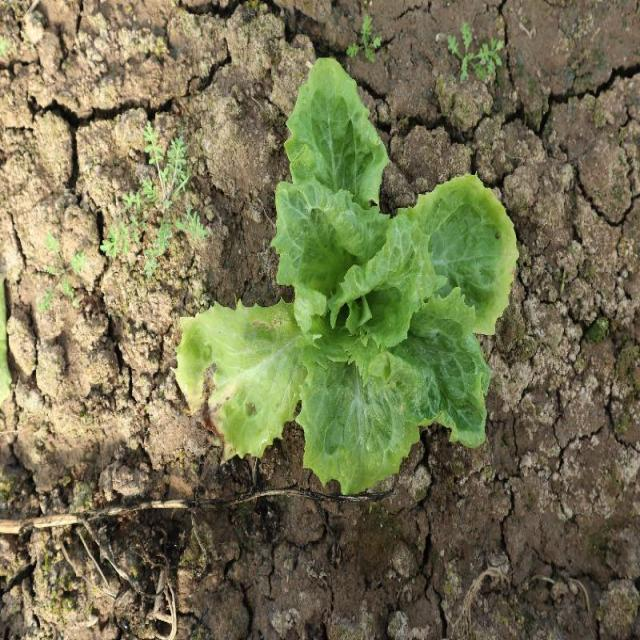crop: (272, 59, 517, 495)
